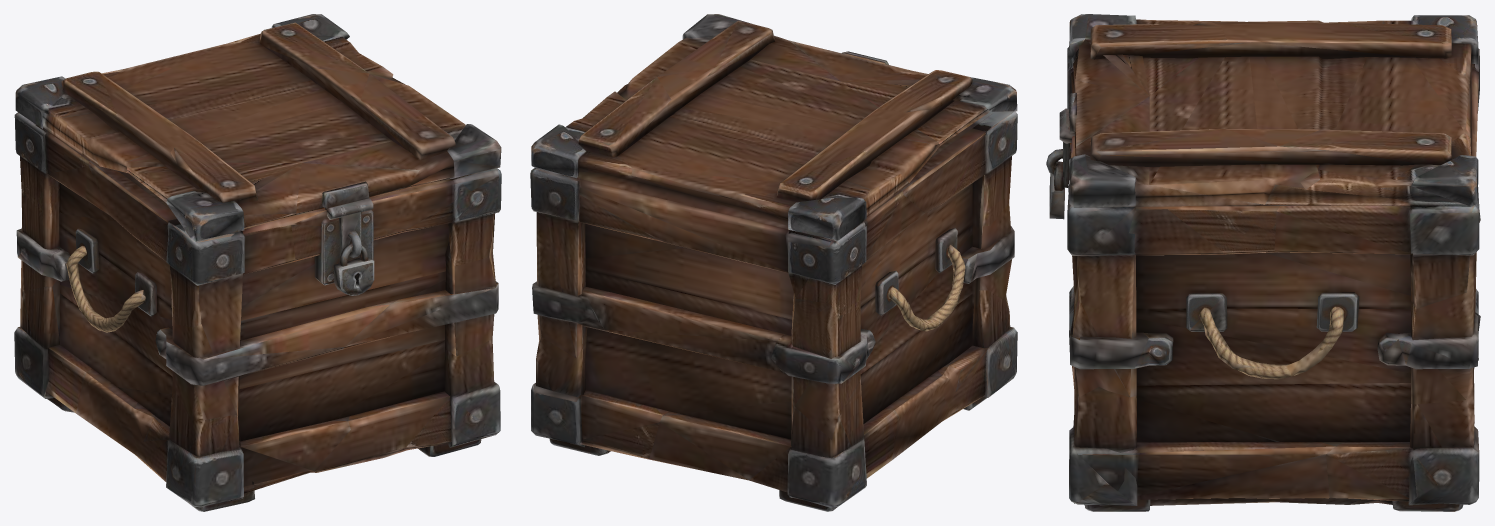
Rendered from crate.glb.
3 views of the same model, side by side, from view 1: azimuth 30°, elevation 25°; view 2: azimuth 150°, elevation 25°; view 3: azimuth 270°, elevation 25° (orthographic). The views are drawn at different scales.
Visible parts, largest first — view 1: crate; view 2: crate; view 3: crate.
Boxes of the visible parts, x1,y1,x2,y2 form: crate: (14,14,501,511); crate: (530,14,1017,511); crate: (1046,14,1480,511).
Bounding box in the file's own units: 0.72 × 0.648 × 0.725.
1 material, 1 textured.
